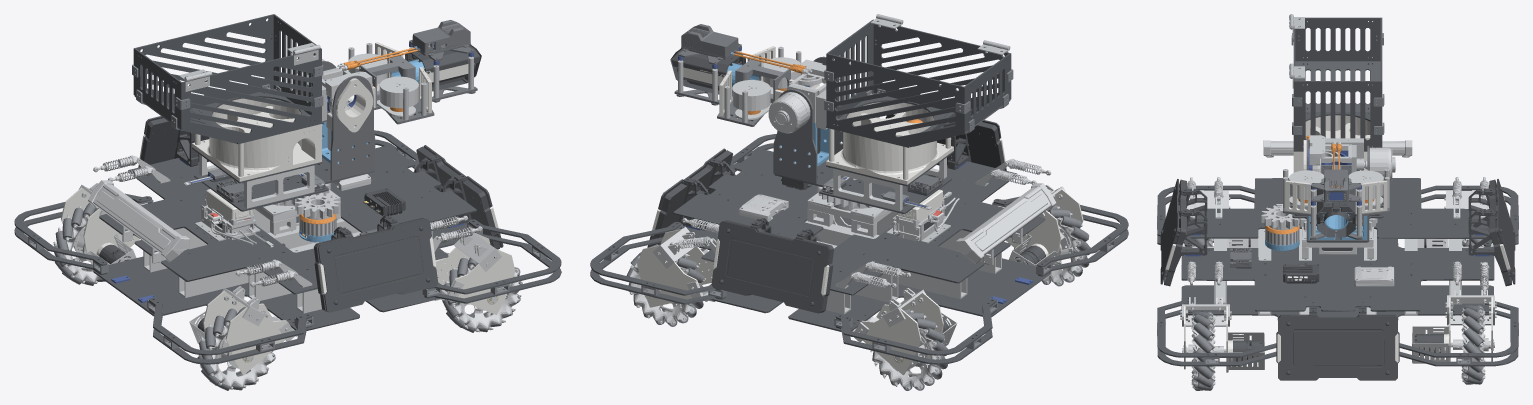
File: qkrt.glb
3 renders of one model, left to right at view 1: azimuth 30°, elevation 25°; view 2: azimuth 150°, elevation 25°; view 3: azimuth 270°, elevation 25°, orthographic. The views are drawn at different scales.
Visible parts, largest first — view 1: base_carbon, yaw_carbon, base_alu, armorR_black, base_white, yaw_print, yaw_dark, armorF_black, yaw_alu, pitch_dark, pitch_alu, armorL_black (+18 smaller); view 2: base_carbon, yaw_carbon, base_alu, armorL_black, base_white, yaw_print, yaw_dark, pitch_alu, armorF_black, yaw_alu, pitch_steel, pitch_dark (+19 smaller); view 3: base_carbon, base_alu, yaw_carbon, armorF_black, armorR_black, armorL_black, pitch_alu, pitch_dark, pitch_print, pitch_steel, base_black, yaw_print (+15 smaller).
Boxes of the visible parts, x1=… form: base_carbon: x1=14, y1=130, x2=561, y2=364; yaw_carbon: x1=133, y1=14, x2=374, y2=211; base_alu: x1=73, y1=155, x2=501, y2=368; armorR_black: x1=314, y1=215, x2=438, y2=312; base_white: x1=61, y1=187, x2=515, y2=374; yaw_print: x1=192, y1=98, x2=321, y2=181; yaw_dark: x1=216, y1=61, x2=375, y2=202; armorF_black: x1=413, y1=145, x2=503, y2=249; yaw_alu: x1=184, y1=71, x2=372, y2=208; pitch_dark: x1=322, y1=20, x2=477, y2=124; pitch_alu: x1=296, y1=43, x2=430, y2=117; armorL_black: x1=138, y1=116, x2=209, y2=167; base_carbon: x1=590, y1=134, x2=1128, y2=364; yaw_carbon: x1=774, y1=19, x2=1011, y2=213; base_alu: x1=651, y1=158, x2=1071, y2=368; armorL_black: x1=711, y1=217, x2=833, y2=313; base_white: x1=637, y1=189, x2=1083, y2=375; yaw_print: x1=826, y1=102, x2=953, y2=184; yaw_dark: x1=773, y1=56, x2=943, y2=193; pitch_alu: x1=732, y1=57, x2=826, y2=133; armorF_black: x1=647, y1=148, x2=735, y2=247; yaw_alu: x1=800, y1=59, x2=946, y2=210; pitch_steel: x1=678, y1=46, x2=845, y2=132; pitch_dark: x1=674, y1=24, x2=815, y2=126; base_carbon: x1=1157, y1=178, x2=1518, y2=366; base_alu: x1=1182, y1=140, x2=1494, y2=372; yaw_carbon: x1=1292, y1=17, x2=1383, y2=242; armorF_black: x1=1276, y1=305, x2=1399, y2=380; armorR_black: x1=1160, y1=179, x2=1207, y2=286; armorL_black: x1=1468, y1=179, x2=1515, y2=286; pitch_alu: x1=1289, y1=141, x2=1395, y2=206; pitch_dark: x1=1283, y1=169, x2=1389, y2=240; pitch_print: x1=1285, y1=140, x2=1387, y2=213; pitch_steel: x1=1283, y1=138, x2=1395, y2=236; base_black: x1=1232, y1=238, x2=1443, y2=362; yaw_print: x1=1293, y1=115, x2=1370, y2=172.
Size of the model in its own units: 0.775 by 0.5491 by 0.693.
